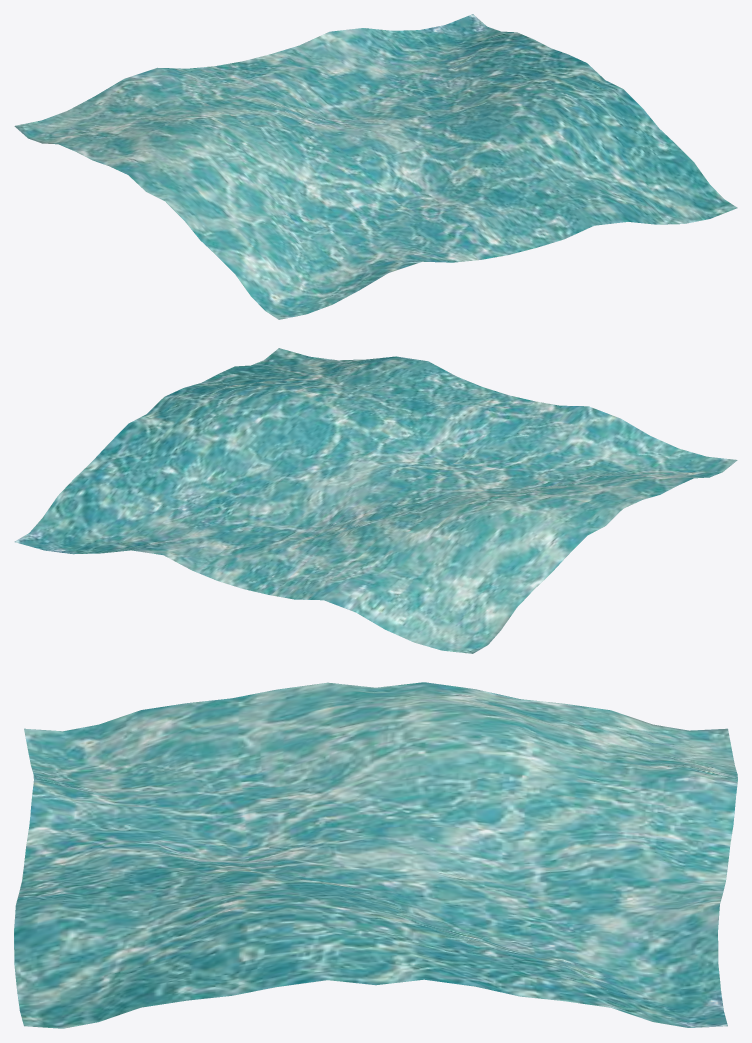
File: water_000047.obj
3 renders of one model, top to bottom at view 1: azimuth 30°, elevation 25°; view 2: azimuth 150°, elevation 25°; view 3: azimuth 270°, elevation 25°, orthographic. The views are drawn at different scales.
Parts seen in each view (by area): view 1: Plan.003_Plan.001; view 2: Plan.003_Plan.001; view 3: Plan.003_Plan.001.
Boxes of the visible parts, x1,y1,x2,y2 form: Plan.003_Plan.001: (14,14,737,319); Plan.003_Plan.001: (14,348,737,653); Plan.003_Plan.001: (14,682,737,1028).
Bounding box in the file's own units: 60489 × 6393 × 62043.
1 material, 1 textured.
